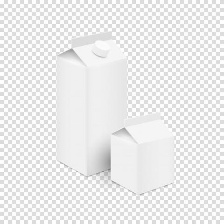carton: (54, 29, 127, 177), (107, 113, 178, 197)
